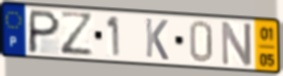0: (188, 19, 215, 65)
1: (104, 15, 121, 59)
K: (144, 16, 170, 62)
N: (220, 19, 254, 68)
P: (26, 8, 63, 56)
Z: (58, 9, 95, 57)
